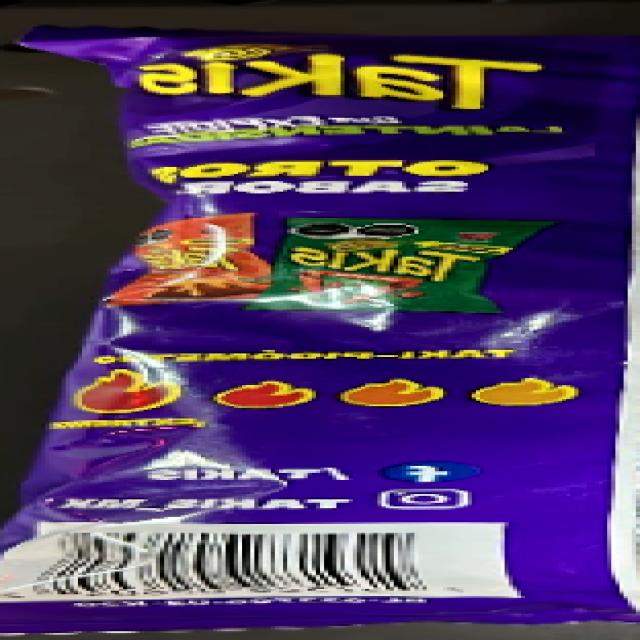productoAtras: (106, 26, 640, 620)
